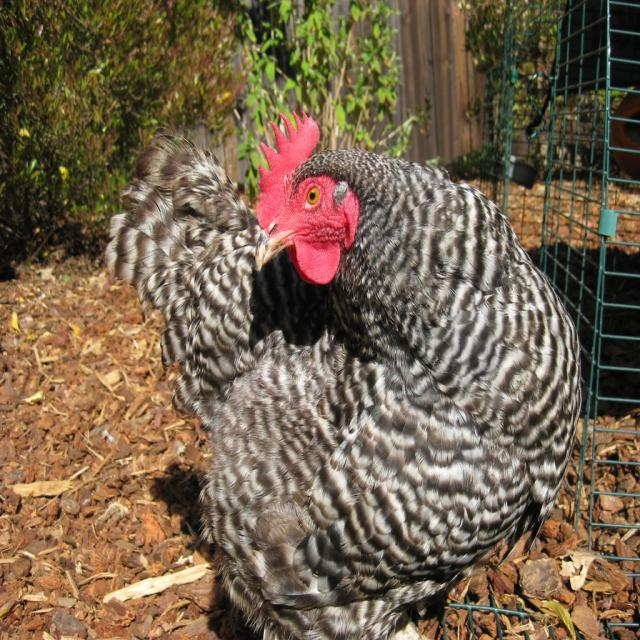Chicken: (124, 125, 594, 608)
